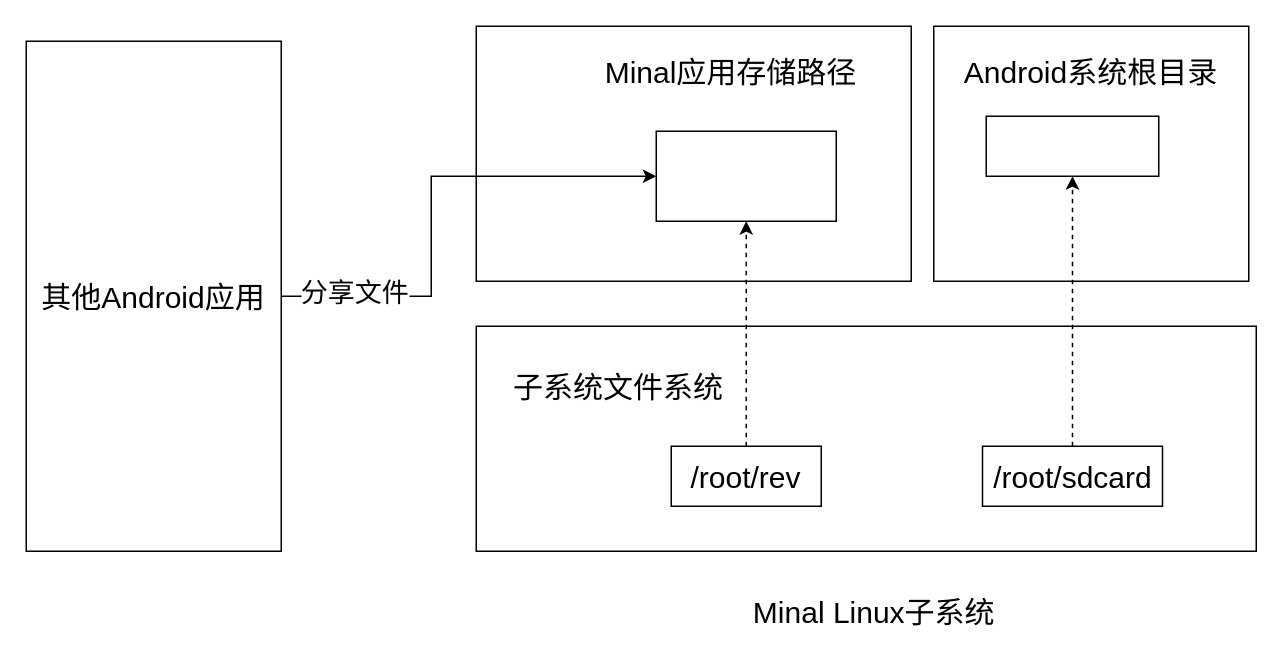
Image size: 1283x656. Some labels were removed from this diagram. Here are the shapes that lost their labels. From the top down, the box of each, then its label:
(985, 115, 1159, 176): /sdcard
(655, 130, 836, 221): receive_file
